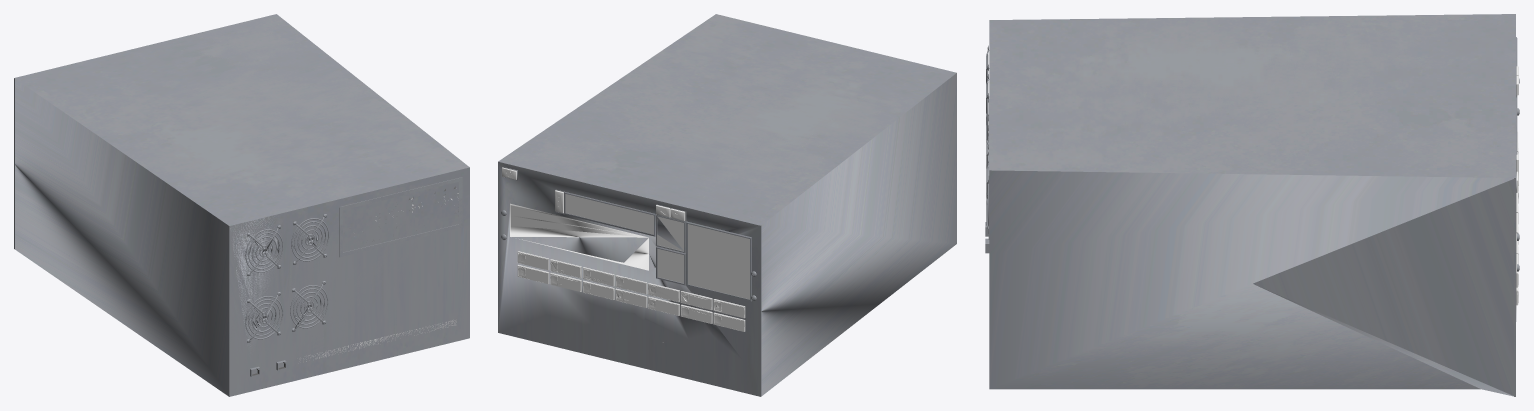
Rendered from Server.System.7u.glb.
3 views of the same model, side by side, from view 1: azimuth 30°, elevation 25°; view 2: azimuth 150°, elevation 25°; view 3: azimuth 270°, elevation 25° (orthographic). The views are drawn at different scales.
Visible parts, largest first — view 1: Server.Yellow2; view 2: Server.Yellow2; view 3: Server.Yellow2.
Boxes of the visible parts, <box> form: Server.Yellow2: <box>14,14,469,396</box>; Server.Yellow2: <box>498,14,956,396</box>; Server.Yellow2: <box>986,14,1519,396</box>.
Size of what is drawn, in the model's own units: 0.4977 by 0.3096 by 0.6852.
Materials: 8 (3 with a texture image).
